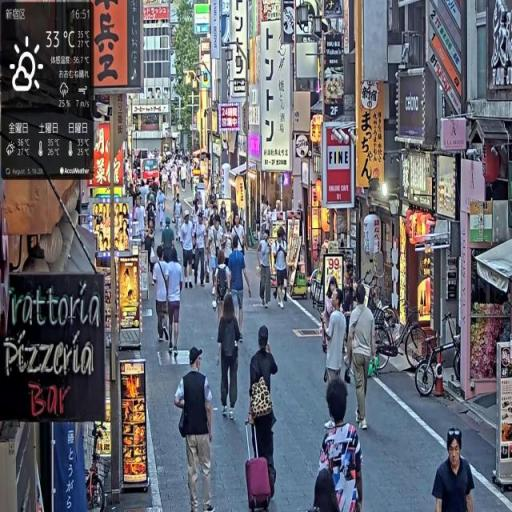person: (318, 371, 366, 512), (176, 344, 216, 512), (248, 327, 281, 493), (347, 286, 377, 435), (433, 428, 476, 512), (217, 295, 242, 422), (227, 236, 253, 341), (163, 245, 186, 363), (323, 294, 350, 389), (154, 247, 171, 348), (258, 228, 275, 312), (181, 212, 197, 288), (195, 214, 209, 290)
